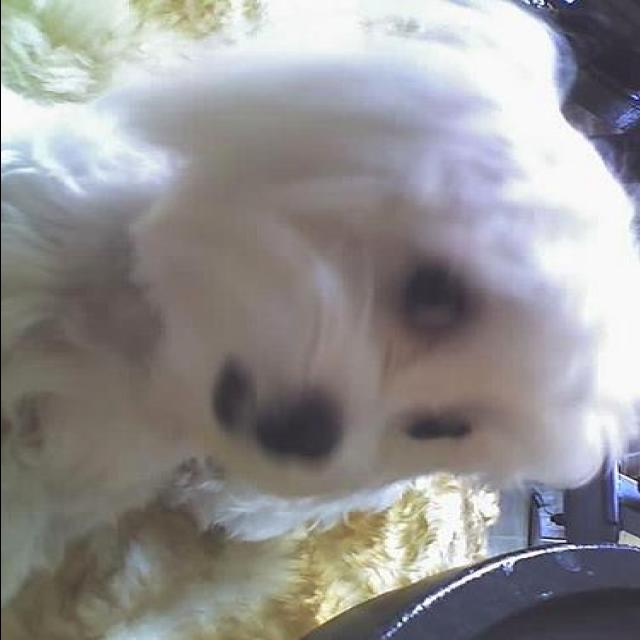maltese_dog: (2, 0, 640, 544)
